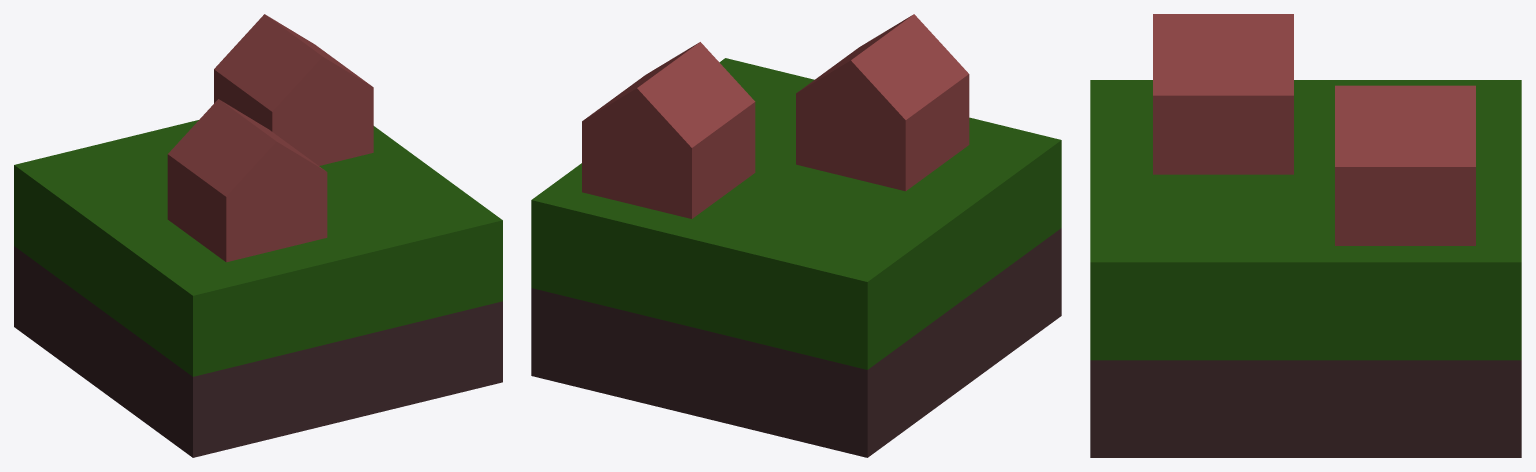
Rendered from houses.glb.
3 renders of one model, left to right at view 1: azimuth 30°, elevation 25°; view 2: azimuth 150°, elevation 25°; view 3: azimuth 270°, elevation 25°, orthographic. The views are drawn at different scales.
Parts seen in each view (by area): view 1: Houses; view 2: Houses; view 3: Houses.
Boxes of the visible parts, box(x1,y1,x2,y2) form: Houses: box(14, 14, 502, 457); Houses: box(531, 14, 1061, 457); Houses: box(1090, 14, 1521, 457).
Bounding box in the file's own units: 2 × 1.67 × 2.
